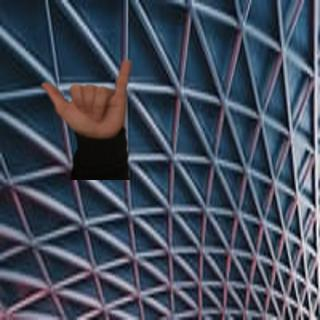HAVE: (39, 56, 136, 138)
